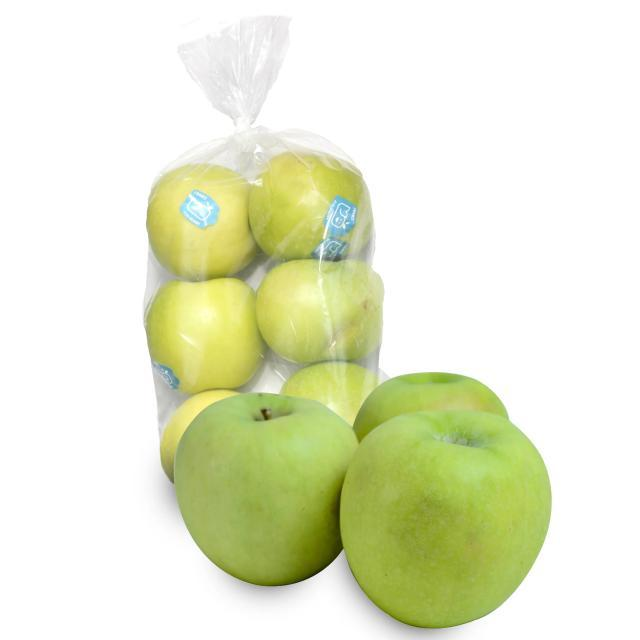Green Apple: (144, 144, 554, 628), (339, 409, 553, 629)
Red Apple: (174, 392, 359, 587), (248, 150, 376, 264), (256, 258, 385, 369), (144, 277, 265, 394), (146, 162, 258, 281), (353, 371, 509, 443), (159, 388, 242, 484), (279, 360, 387, 427)
